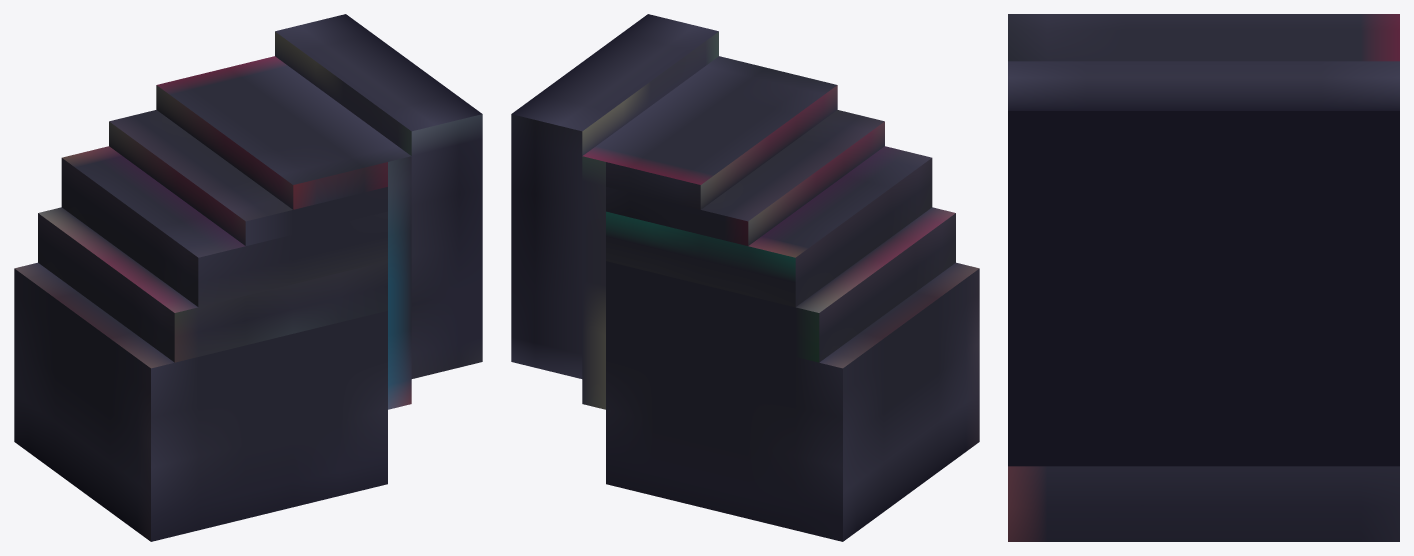
File: Vent_C_00.fbx
3 views of the same model, side by side, from view 1: azimuth 30°, elevation 25°; view 2: azimuth 150°, elevation 25°; view 3: azimuth 270°, elevation 25° (orthographic). The views are drawn at different scales.
Visible parts, largest first — view 1: Vent_C_00; view 2: Vent_C_00; view 3: Vent_C_00.
Part boxes in pixels (x1=…): Vent_C_00: x1=14, y1=14, x2=482, y2=541; Vent_C_00: x1=511, y1=14, x2=979, y2=541; Vent_C_00: x1=1008, y1=14, x2=1399, y2=541.
Size of the model in its own units: 70 by 70 by 50.
